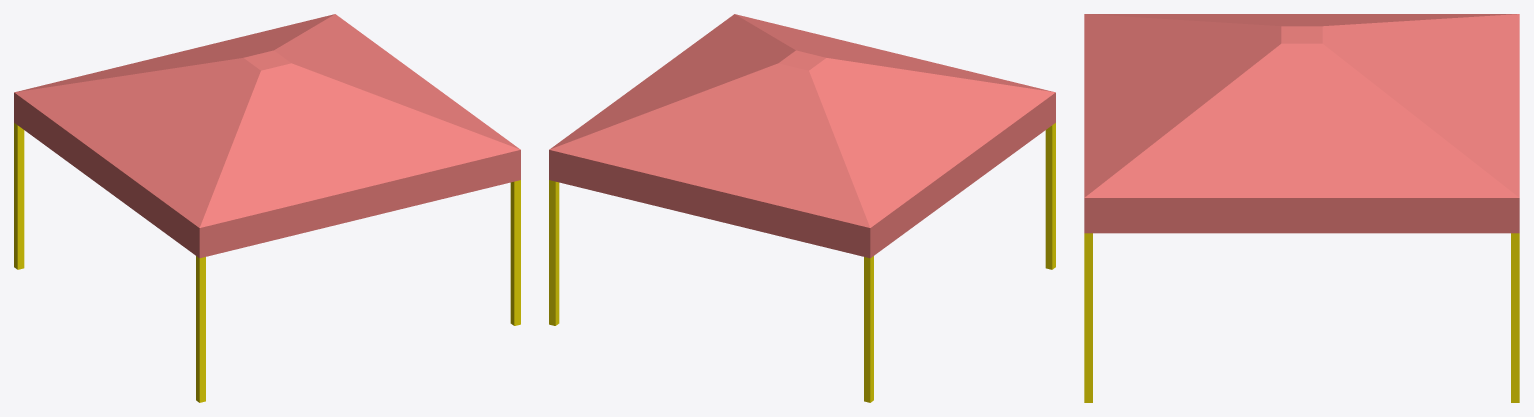
File: tent.glb
3 views of the same model, side by side, from view 1: azimuth 30°, elevation 25°; view 2: azimuth 150°, elevation 25°; view 3: azimuth 270°, elevation 25° (orthographic). The views are drawn at different scales.
Parts seen in each view (by area): view 1: tent(Clone); view 2: tent(Clone); view 3: tent(Clone).
Boxes of the visible parts, <box> form: tent(Clone): <box>14,14,520,402</box>; tent(Clone): <box>549,14,1055,402</box>; tent(Clone): <box>1084,14,1519,402</box>.
Bounding box in the file's own units: 1 × 0.7 × 1.
